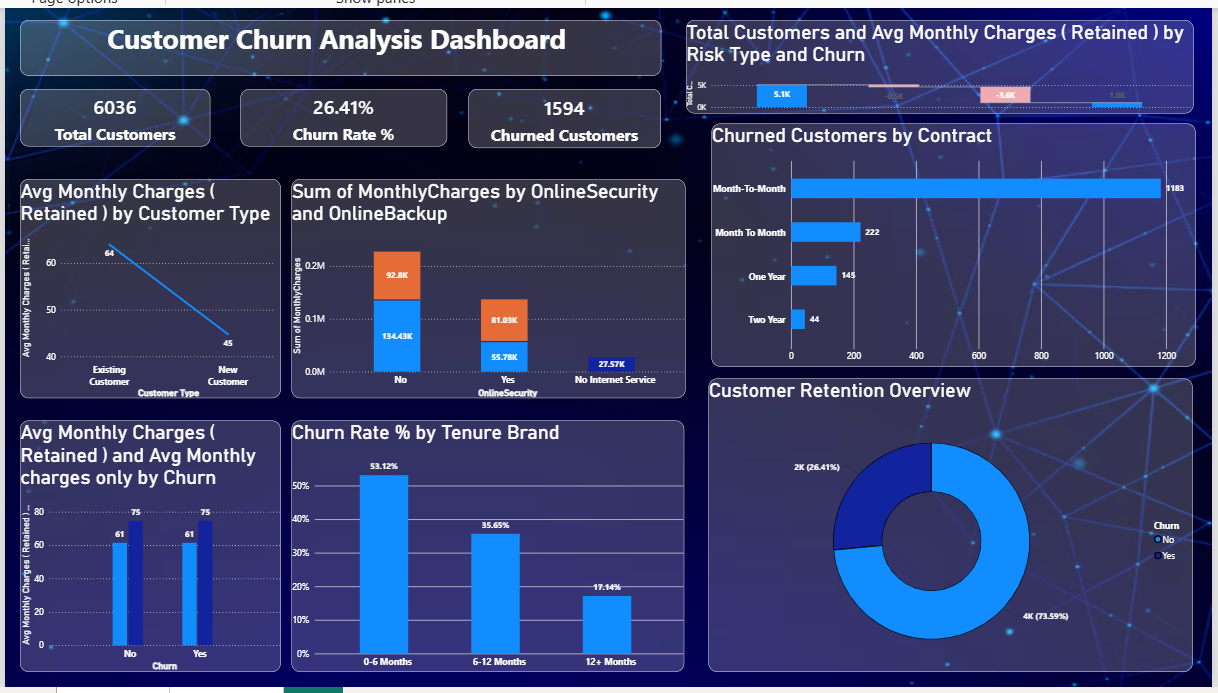

Layout of this report page (visuals, bound fields, positions):
{"tool":"powerbi","page":{"name":"Page 1","canvas":[1920,1080],"ordinal":0},"visuals":[{"type":"card","fields":{"Values":["CountNonNull(telco_churn_unclean.customerID)"]},"box":[22.9,128.6,302.9,91.4],"z":0},{"type":"textbox","box":[22.9,20,1020,88.6],"z":1000},{"type":"card","fields":{"Values":["Calculated_Measure.Churn Rate %"]},"box":[374.3,128.6,328.6,91.4],"z":2000},{"type":"card","fields":{"Values":["Calculated_Measure.Churned Customers"]},"box":[737.1,128.6,305.7,94.3],"z":3000},{"type":"donutChart","title":"Customer Retention Overview","fields":{"Y":["Calculated_Measure.Total Customers"],"Category":["telco_churn_unclean.Churn"]},"box":[1120,590,770,466.7],"z":4000},{"type":"clusteredBarChart","fields":{"Category":["telco_churn_unclean.Contract"],"Y":["Calculated_Measure.Churned Customers"]},"box":[1123.3,183.3,770,386.7],"z":5000},{"type":"columnChart","fields":{"Y":["Sum(telco_churn_unclean.MonthlyCharges)"],"Category":["telco_churn_unclean.OnlineSecurity"],"Series":["telco_churn_unclean.OnlineBackup"]},"box":[456.1,273.2,626.8,348.8],"z":6000},{"type":"columnChart","fields":{"Category":["telco_churn_unclean.Tenure Brand"],"Y":["Calculated_Measure.Churn Rate %"]},"box":[456.1,656.1,624.4,400],"z":7000},{"type":"clusteredColumnChart","fields":{"Category":["telco_churn_unclean.Churn"],"Y":["Calculated_Measure.Avg Monthly Charges ( Retained )","telco_churn_unclean.Avg Monthly charges only"]},"box":[24.4,656.1,414.6,400],"z":8000},{"type":"lineChart","fields":{"Y":["Calculated_Measure.Avg Monthly Charges ( Retained )"],"Category":["telco_churn_unclean.Customer Type"]},"box":[24.4,273.2,414.6,348.8],"z":8001},{"type":"waterfallChart","fields":{"Y":["Calculated_Measure.Total Customers"],"Category":["telco_churn_unclean.Risk Type"],"Breakdown":["telco_churn_unclean.Churn"]},"box":[1082.9,19.5,807.3,148.8],"z":8002}]}

Visuals, with their boxes on the page's 1920x1080 design canvas (x1, y1, x2, y2). These are canvas units, not pixel positions in the 1218x693 screenshot, which may show the page scaled, cropped or inside an application window:
card - CountNonNull(telco_churn_unclean.customerID): [x1=23, y1=129, x2=326, y2=220]
textbox: [x1=23, y1=20, x2=1043, y2=109]
card - Calculated_Measure.Churn Rate %: [x1=374, y1=129, x2=703, y2=220]
card - Calculated_Measure.Churned Customers: [x1=737, y1=129, x2=1043, y2=223]
"Customer Retention Overview" donutChart: [x1=1120, y1=590, x2=1890, y2=1057]
clusteredBarChart - telco_churn_unclean.Contract x Calculated_Measure.Churned Customers: [x1=1123, y1=183, x2=1893, y2=570]
columnChart - Sum(telco_churn_unclean.MonthlyCharges) x telco_churn_unclean.OnlineSecurity: [x1=456, y1=273, x2=1083, y2=622]
columnChart - telco_churn_unclean.Tenure Brand x Calculated_Measure.Churn Rate %: [x1=456, y1=656, x2=1080, y2=1056]
clusteredColumnChart - telco_churn_unclean.Churn x Calculated_Measure.Avg Monthly Charges ( Retained ): [x1=24, y1=656, x2=439, y2=1056]
lineChart - Calculated_Measure.Avg Monthly Charges ( Retained ) x telco_churn_unclean.Customer Type: [x1=24, y1=273, x2=439, y2=622]
waterfallChart - Calculated_Measure.Total Customers x telco_churn_unclean.Risk Type: [x1=1083, y1=20, x2=1890, y2=168]
